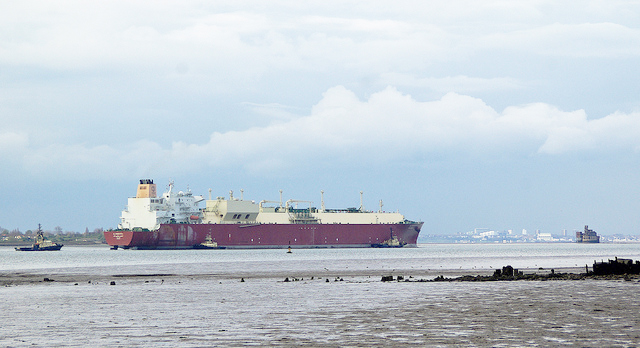LNG_ship: (101, 177, 428, 249)
tug_boat: (17, 228, 64, 249), (189, 231, 229, 255), (367, 227, 412, 246)
